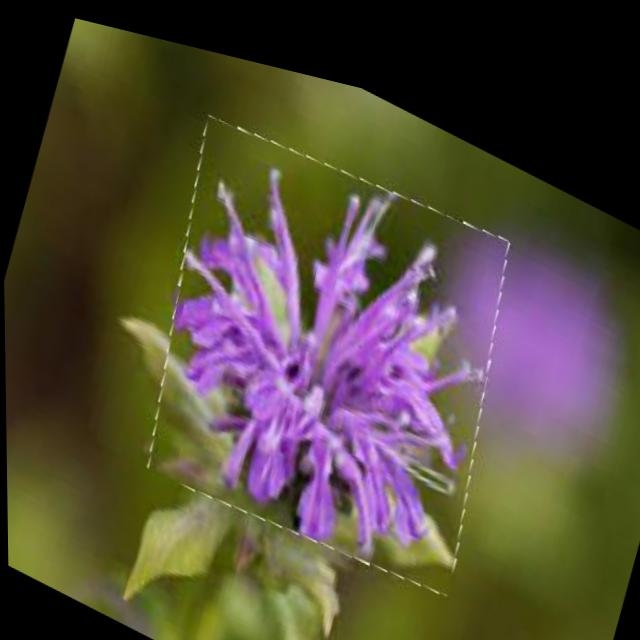Flower: (120, 69, 535, 608)
